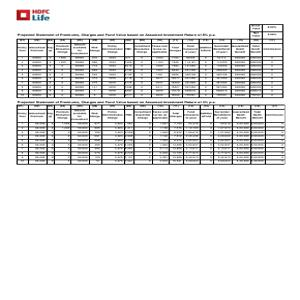image: (15, 6, 56, 23)
table: (17, 26, 283, 97), (16, 103, 286, 165)
text: (17, 99, 223, 103)
